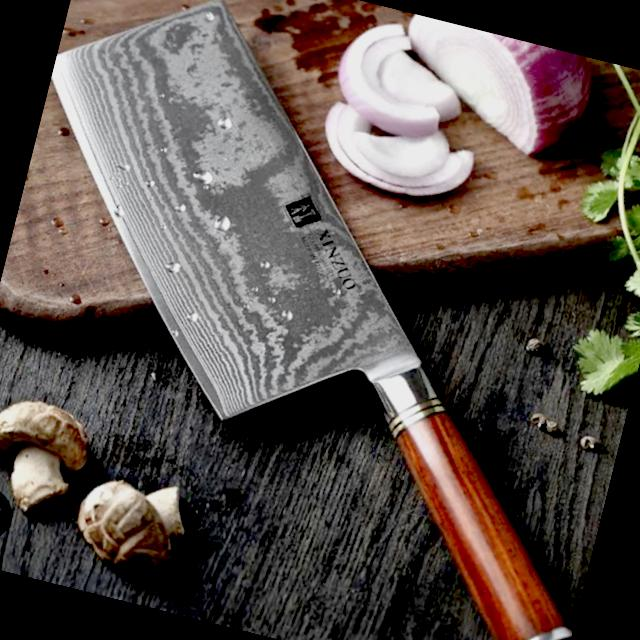knife: (44, 0, 576, 640)
